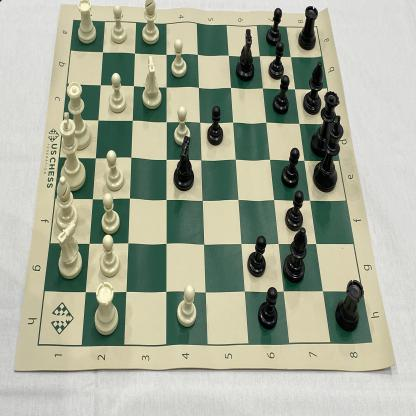black-bishop: (284, 227, 306, 285), (302, 60, 323, 116)
black-king: (313, 115, 342, 192)
black-knight: (172, 137, 195, 191), (236, 27, 256, 82)
black-pawn: (257, 284, 279, 331), (246, 234, 266, 279), (280, 147, 300, 189), (285, 191, 305, 232), (272, 73, 289, 115), (207, 104, 223, 147), (265, 5, 282, 45), (268, 44, 285, 79)
black-queen: (312, 91, 340, 155)
white-bishop: (54, 175, 79, 232), (140, 0, 161, 45)
white-king: (56, 110, 87, 192)
white-knight: (55, 221, 85, 279), (140, 54, 163, 110)
white-pawn: (98, 234, 121, 278), (176, 284, 198, 328), (105, 149, 124, 192), (109, 4, 128, 46), (101, 192, 120, 233), (169, 39, 188, 79), (108, 71, 126, 113), (173, 105, 191, 146)
white-queen: (62, 81, 92, 150)
white-rook: (333, 276, 364, 334), (92, 281, 119, 336), (298, 4, 318, 53), (75, 0, 97, 44)
